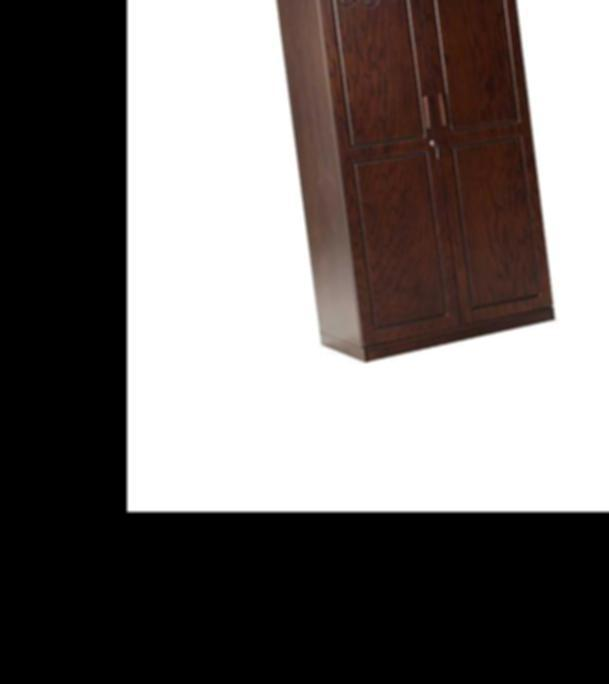Armario: (263, 0, 567, 361)
